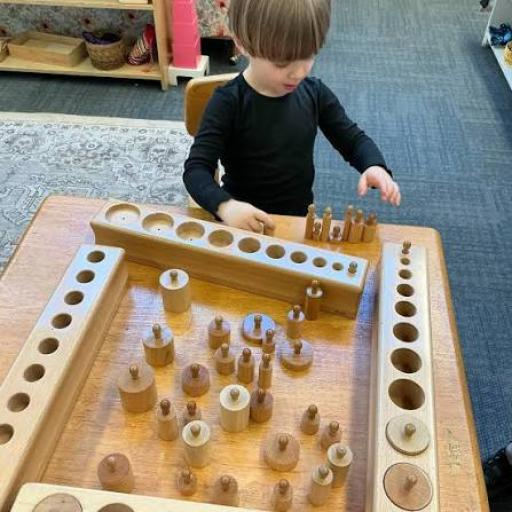knobbedcylinders: (94, 303, 355, 512), (90, 195, 370, 323), (0, 238, 128, 512), (376, 239, 446, 512), (303, 202, 381, 245)
